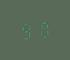nine: (19, 21, 34, 40)
zero: (35, 20, 50, 38)
